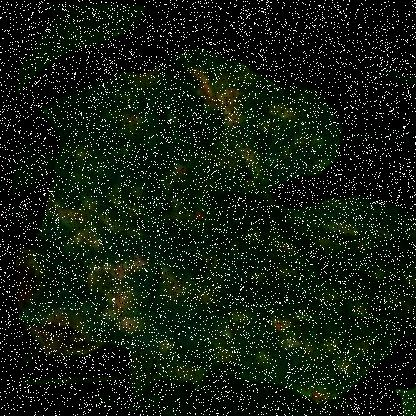DownyMildew: (35, 92, 280, 258), (12, 211, 255, 369), (133, 30, 344, 179), (233, 182, 415, 342)
